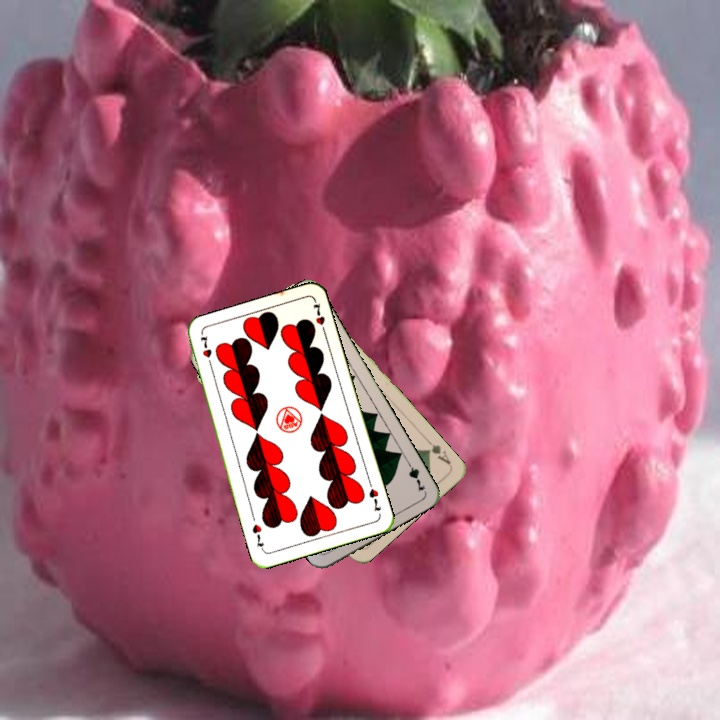G7: (402, 456, 428, 494)
GA: (422, 435, 454, 467)
H7: (364, 477, 384, 514), (196, 333, 215, 371)
